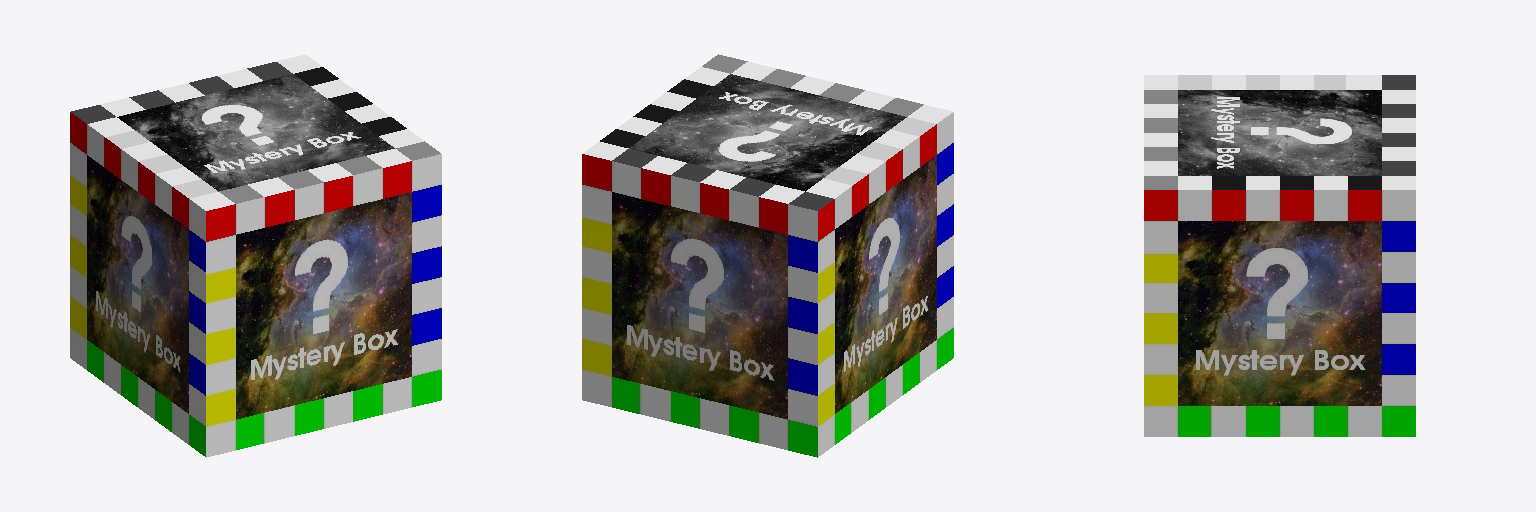
3 renders of one model, left to right at view 1: azimuth 30°, elevation 25°; view 2: azimuth 150°, elevation 25°; view 3: azimuth 270°, elevation 25°, orthographic.
Visible parts, largest first — view 1: cube1; view 2: cube1; view 3: cube1.
Boxes of the visible parts, box(x1,y1,x2,y2) form: cube1: box(70, 54, 441, 457); cube1: box(582, 54, 953, 457); cube1: box(1144, 75, 1415, 436).
Size of the model in its own units: 2 by 2 by 2.
Materials: 2 (2 with a texture image).